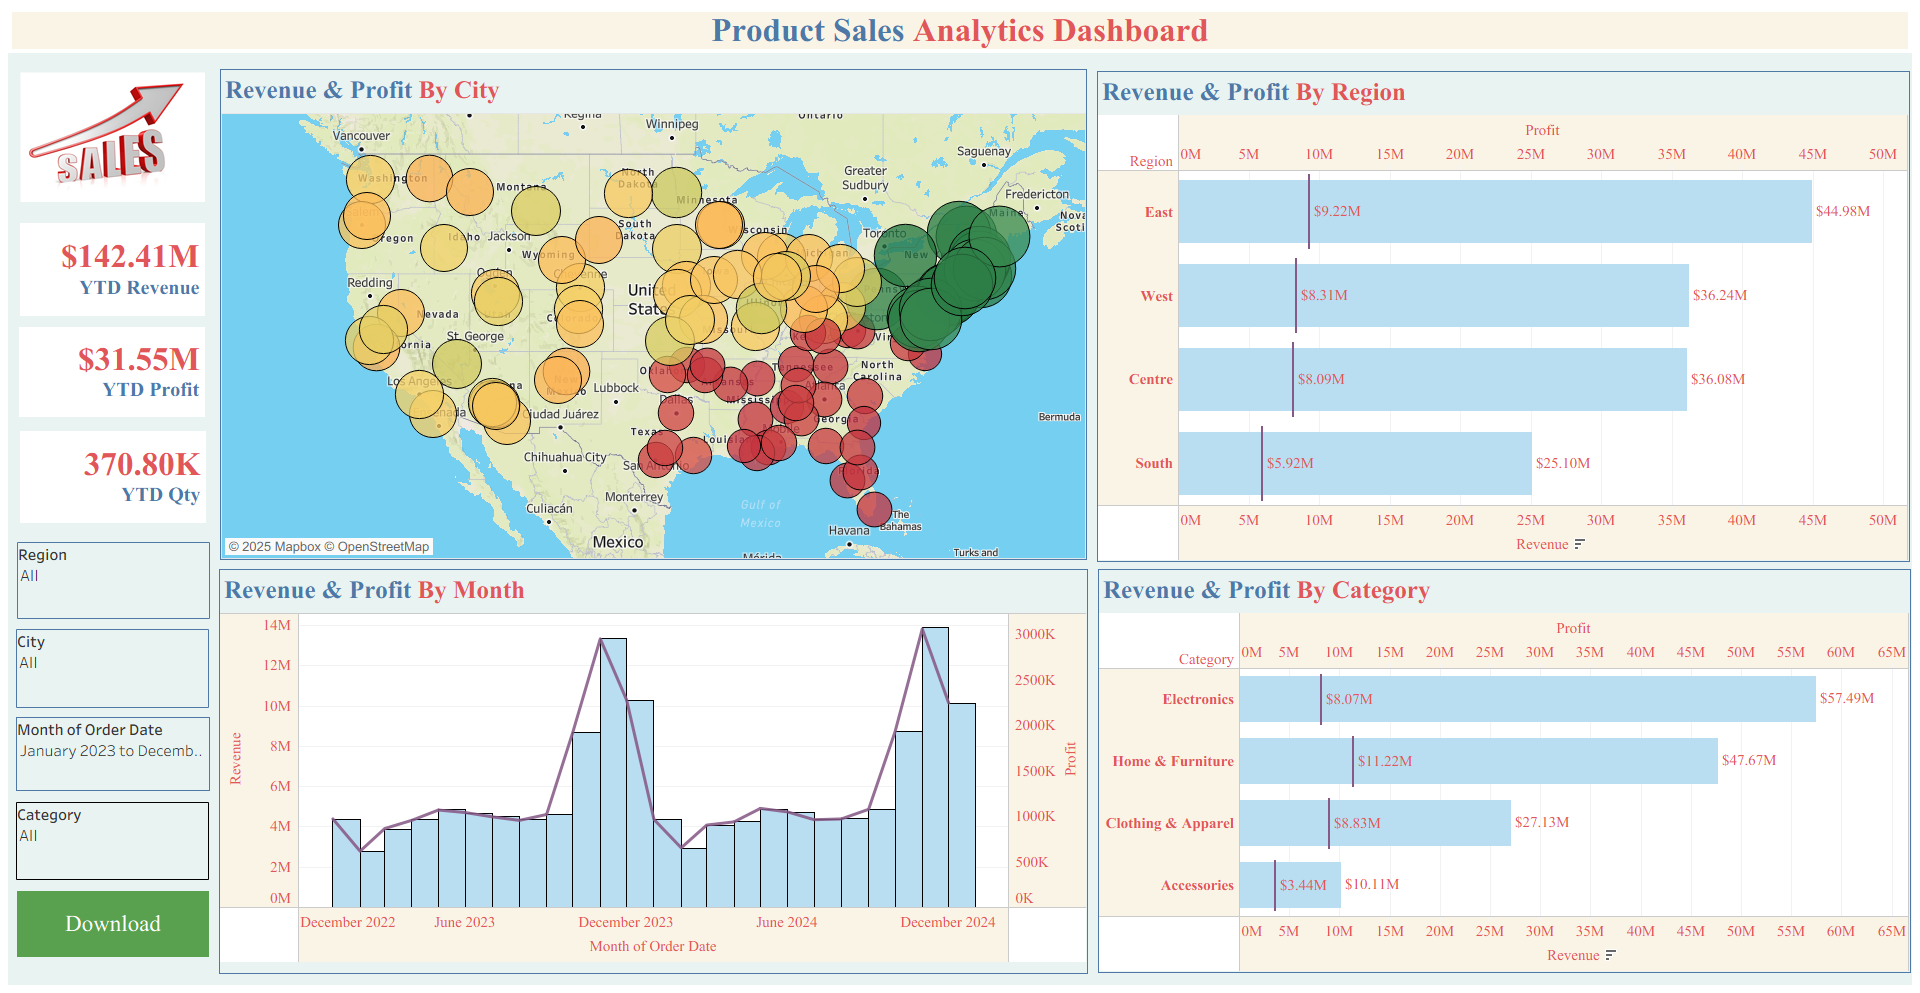

The page's visual inventory and layout, read from the dashboard file:
{"tool":"tableau","page":{"name":"Dashboard","canvas":[1000,1000],"units":"permille","ordinal":0},"visuals":[{"type":"title","box":[4.8,10,990.3,56.2]},{"type":"worksheet","title":"City_Wise","mark":"Automatic","box":[114.7,69.9,451.4,494.4]},{"type":"worksheet","title":" Region_Wise","mark":"Automatic","rows":["Region"],"cols":["Revenue","Profit"],"box":[571.5,71.2,423.1,494.4]},{"type":"image","param":"Image/sales.jpg","box":[10.3,72.4,96.6,139.8]},{"type":"worksheet","title":"Revenue_Card","mark":"Automatic","box":[10.3,224.7,96,92.4]},{"type":"worksheet","title":"Profit_Card","mark":"Automatic","box":[9.7,329.6,96.6,89.9]},{"type":"worksheet","title":"Qty_Card","mark":"Automatic","box":[10.3,434.5,96.6,91.1]},{"type":"filter","title":" Region_Wise","param":"[federated.161l2w40rhty5k10ykqs002c49i8].[none:Region:nk]","box":[9.1,545.6,100.2,77.4]},{"type":"worksheet","title":"Month_Wise","mark":"Bar","rows":["Revenue","Profit"],"cols":["Order_Date"],"box":[114.1,573,452.6,408.2]},{"type":"worksheet","title":"Category_Wise","mark":"GanttBar","rows":["Category"],"cols":["Revenue","Profit"],"box":[572.1,573,423.1,407]},{"type":"filter","title":"City_Wise","param":"[federated.161l2w40rhty5k10ykqs002c49i8].[none:City:nk]","box":[8.4,633,100.2,79.9]},{"type":"filter","title":"Month_Wise","param":"[federated.161l2w40rhty5k10ykqs002c49i8].[tmn:Order_Date:qk]","box":[8.4,721.6,100.8,74.9]},{"type":"filter","title":"Category_Wise","param":"[federated.161l2w40rhty5k10ykqs002c49i8].[none:Category:nk]","box":[8.4,807.7,100.2,78.7]},{"type":"dashboard-object","box":[9.1,897.6,99.6,66.2]}]}

Visuals, with their boxes on the dashboard's canvas, which has no fixed pixel size, in thousandths of its width and height (x1, y1, x2, y2). These are canvas units, not pixel positions in the 1920x993 screenshot, which may show the page scaled, cropped or inside an application window:
title: bbox=[5, 10, 995, 66]
"City_Wise" worksheet: bbox=[115, 70, 566, 564]
" Region_Wise" worksheet: bbox=[572, 71, 995, 566]
image: bbox=[10, 72, 107, 212]
"Revenue_Card" worksheet: bbox=[10, 225, 106, 317]
"Profit_Card" worksheet: bbox=[10, 330, 106, 420]
"Qty_Card" worksheet: bbox=[10, 434, 107, 526]
" Region_Wise" filter: bbox=[9, 546, 109, 623]
"Month_Wise" worksheet (Bar marks): bbox=[114, 573, 567, 981]
"Category_Wise" worksheet (GanttBar marks): bbox=[572, 573, 995, 980]
"City_Wise" filter: bbox=[8, 633, 109, 713]
"Month_Wise" filter: bbox=[8, 722, 109, 796]
"Category_Wise" filter: bbox=[8, 808, 109, 886]
dashboard-object: bbox=[9, 898, 109, 964]
